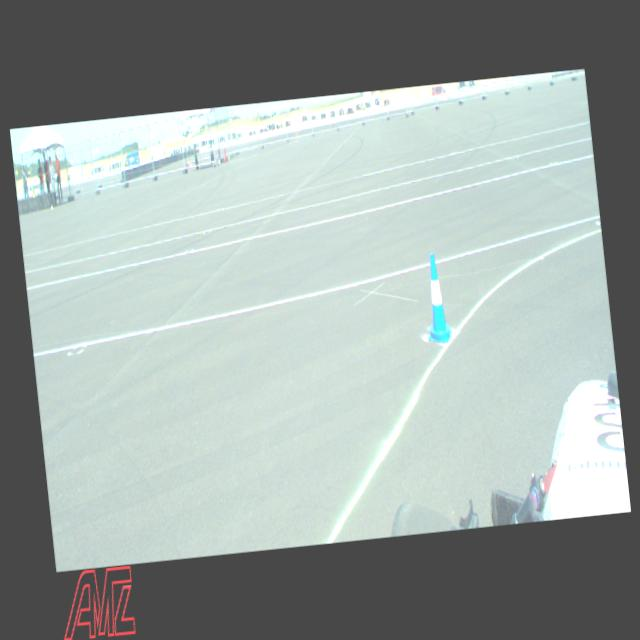blue_cone: (420, 252, 452, 344)
